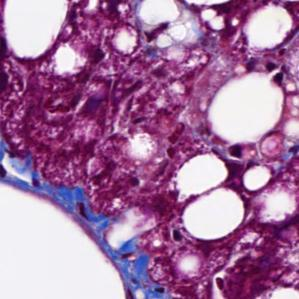inflammation: (140, 19, 171, 46), (224, 140, 248, 161)
